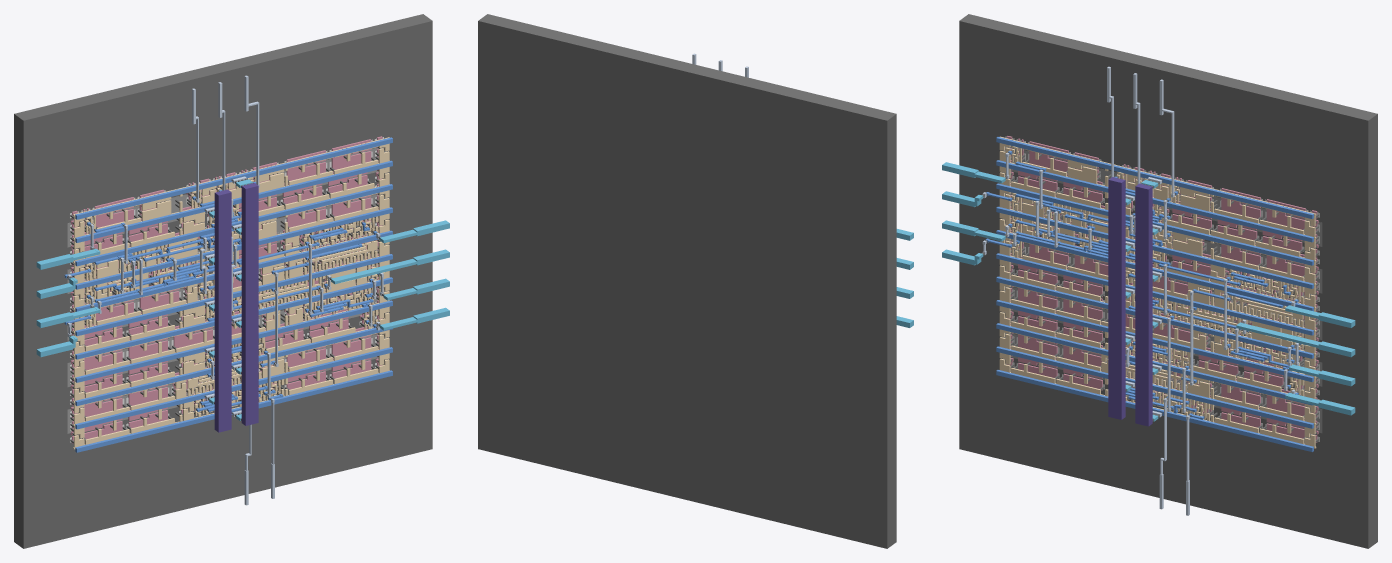
Rendered from render1.gds.gltf.
3 views of the same model, side by side, from view 1: azimuth 30°, elevation 25°; view 2: azimuth 150°, elevation 25°; view 3: azimuth 330°, elevation 25° (orthographic).
Visible parts, largest first — view 1: Encoder_substrate, Encoder_met1, Encoder_met4, Encoder_met2, Encoder_met3, sky130_fd_sc_hd__clkbuf_16_li1 (×3), sky130_ef_sc_hd__decap_12_poly (×3), sky130_fd_sc_hd__dfxtp_1_li1 (×2), sky130_fd_sc_hd__decap_8_li1 (×2); view 2: Encoder_substrate, Encoder_met3; view 3: Encoder_substrate, Encoder_met1, Encoder_met4, Encoder_met2, Encoder_met3, sky130_fd_sc_hd__clkbuf_16_li1 (×3), sky130_fd_sc_hd__dfxtp_1_li1 (×3), sky130_ef_sc_hd__decap_12_poly (×3), sky130_fd_sc_hd__decap_8_li1 (×3), sky130_fd_sc_hd__dfxtp_1_met1 (×2), sky130_ef_sc_hd__decap_12_met1 (×2).
Part boxes in pixels (x1,y1,x2,y2): Encoder_substrate: (14,14,432,548); Encoder_met1: (64,138,392,449); Encoder_met4: (214,183,258,432); Encoder_met2: (67,75,383,505); Encoder_met3: (36,179,449,420); sky130_fd_sc_hd__clkbuf_16_li1 (×3): (187,234,377,396); sky130_ef_sc_hd__decap_12_poly (×3): (94,139,371,227); sky130_fd_sc_hd__dfxtp_1_li1 (×2): (303,220,363,321); sky130_fd_sc_hd__decap_8_li1 (×2): (141,163,284,221); Encoder_substrate: (478,14,896,548); Encoder_met3: (896,229,913,327); Encoder_substrate: (959,14,1377,548); Encoder_met1: (985,138,1312,447); Encoder_met4: (1108,177,1152,426); Encoder_met2: (982,66,1299,515); Encoder_met3: (942,162,1355,421); sky130_fd_sc_hd__clkbuf_16_li1 (×3): (1125,287,1303,392); sky130_fd_sc_hd__dfxtp_1_li1 (×3): (1131,269,1289,369); sky130_ef_sc_hd__decap_12_poly (×3): (1029,141,1305,229); sky130_fd_sc_hd__decap_8_li1 (×3): (1067,153,1210,256); sky130_fd_sc_hd__dfxtp_1_met1 (×2): (1226,262,1287,375); sky130_ef_sc_hd__decap_12_met1 (×2): (1210,189,1257,438).
Size of the model in its own units: 50 by 50 by 6.87.
